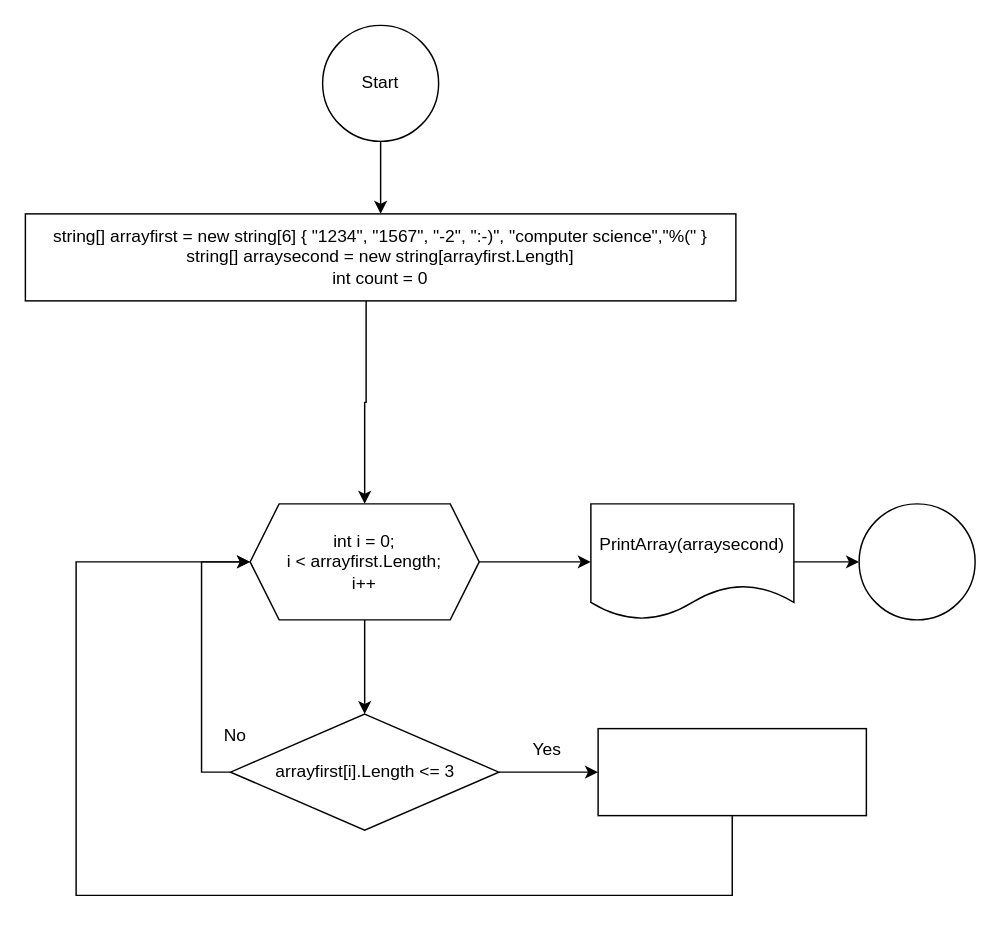
The diagram is 1001 pixels wide and 932 high, and some of its shapes have lost their labels. The shapes that lost their labels are listed below. From the top down, each one's centre as x and y in pixels, then its label:
At pixel 916 561: "End".
At pixel 731 771: "arraysecond[count] = arrayfirst[i] count++".
